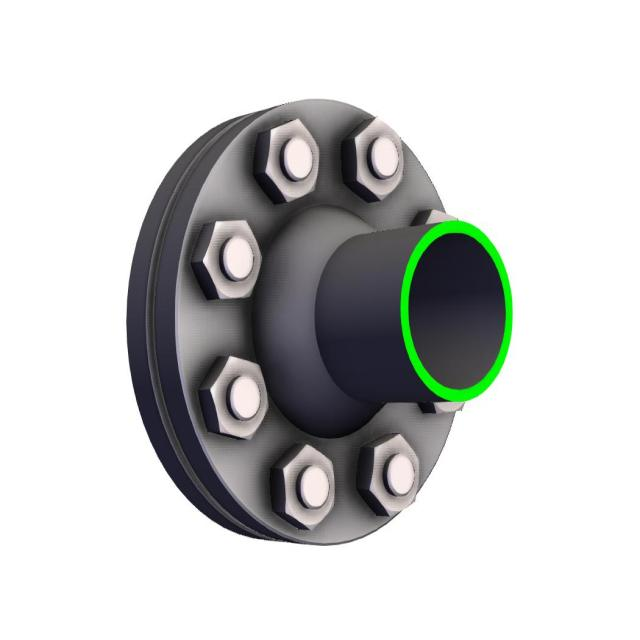bolt nut: (190, 216, 265, 303), (197, 355, 269, 442), (270, 442, 335, 532), (253, 116, 319, 204), (355, 434, 422, 518), (340, 116, 405, 202)
